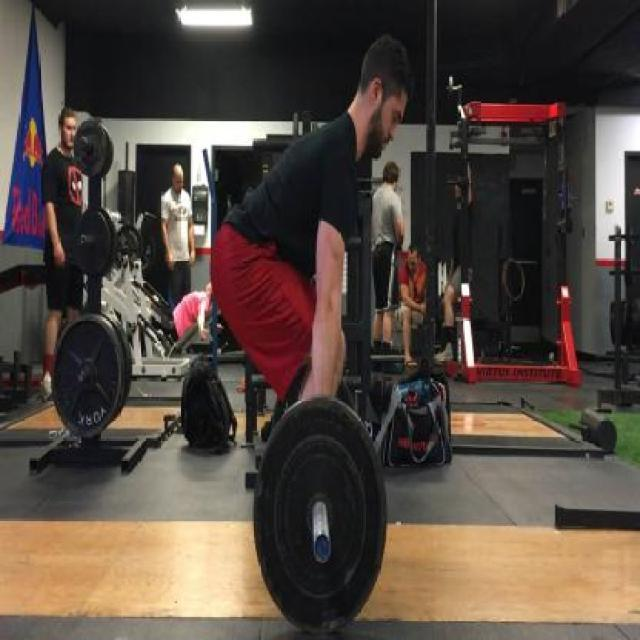barbell: (247, 389, 398, 640), (48, 306, 132, 446)
